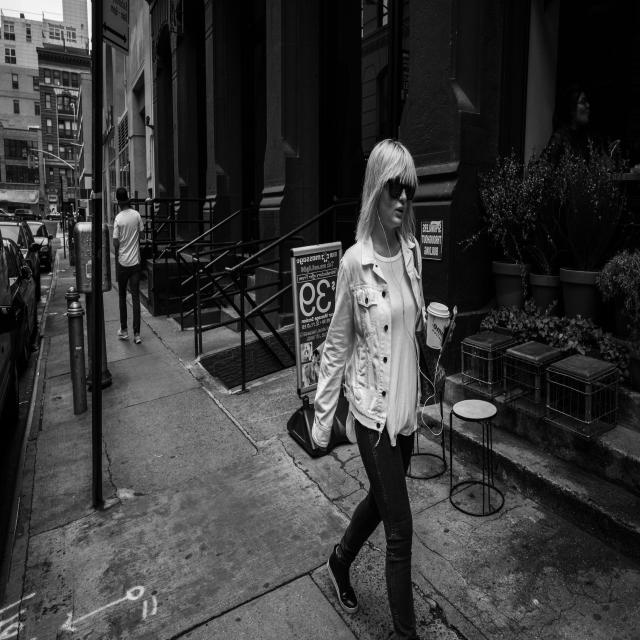adult: (310, 136, 451, 640), (114, 186, 146, 342)
